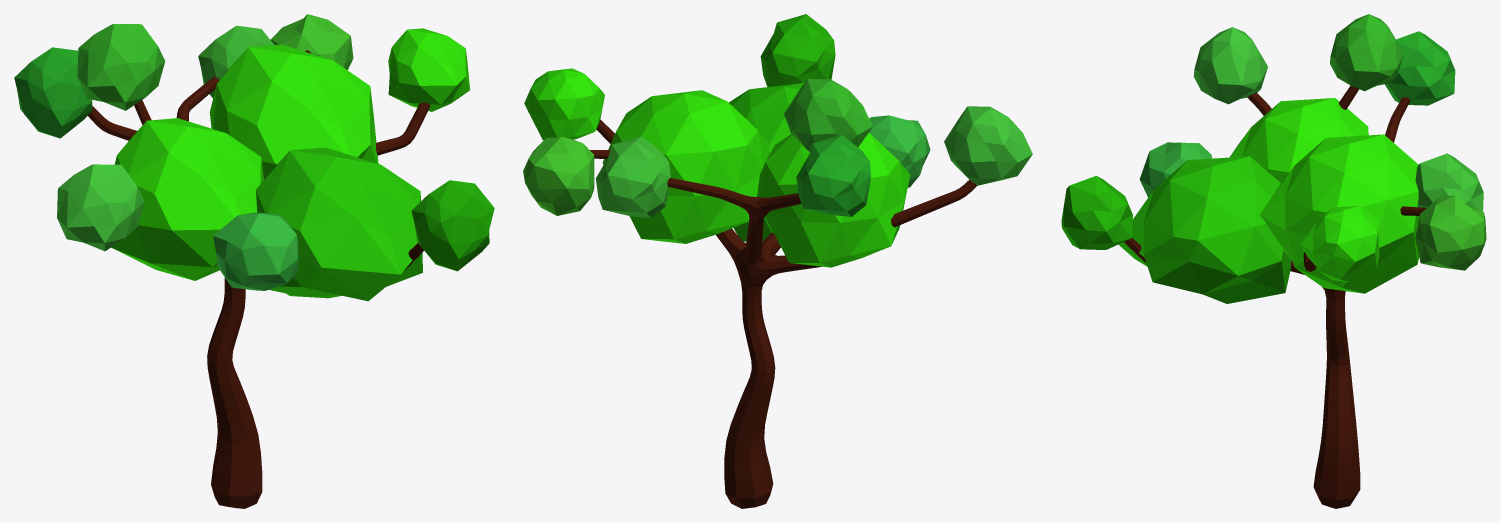
Rendered from tree2.fbx.
3 views of the same model, side by side, from view 1: azimuth 30°, elevation 25°; view 2: azimuth 150°, elevation 25°; view 3: azimuth 270°, elevation 25° (orthographic). The views are drawn at different scales.
Parts seen in each view (by area): view 1: Икосфера.011, Икосфера.008, Икосфера.009, Плоскость, Икосфера.002, Икосфера.006, Икосфера.001, Икосфера.003, Икосфера, Икосфера.007, Икосфера.004, Икосфера.005; view 2: Икосфера.009, Плоскость, Икосфера.008, Икосфера.002, Икосфера.007, Икосфера.005, Икосфера.004, Икосфера, Икосфера.006, Икосфера.003, Икосфера.011, Икосфера.001; view 3: Икосфера.011, Икосфера.009, Плоскость, Икосфера.008, Икосфера, Икосфера.004, Икосфера.003, Икосфера.006, Икосфера.002, Икосфера.007, Икосфера.005, Икосфера.001.
Part boxes in pixels (x1=…): Икосфера.011: x1=256, y1=147, x2=422, y2=301; Икосфера.008: x1=111, y1=118, x2=263, y2=280; Икосфера.009: x1=209, y1=44, x2=378, y2=179; Плоскость: x1=88, y1=50, x2=430, y2=508; Икосфера.002: x1=57, y1=164, x2=144, y2=251; Икосфера.006: x1=77, y1=24, x2=165, y2=110; Икосфера.001: x1=213, y1=212, x2=298, y2=290; Икосфера.003: x1=411, y1=180, x2=494, y2=271; Икосфера: x1=388, y1=28, x2=470, y2=111; Икосфера.007: x1=14, y1=47, x2=92, y2=138; Икосфера.004: x1=270, y1=14, x2=353, y2=70; Икосфера.005: x1=198, y1=25, x2=273, y2=98; Икосфера.009: x1=602, y1=90, x2=769, y2=243; Плоскость: x1=590, y1=119, x2=976, y2=508; Икосфера.008: x1=757, y1=133, x2=910, y2=267; Икосфера.002: x1=944, y1=106, x2=1032, y2=185; Икосфера.007: x1=796, y1=135, x2=870, y2=216; Икосфера.005: x1=595, y1=136, x2=670, y2=218; Икосфера.004: x1=523, y1=136, x2=594, y2=215; Икосфера: x1=524, y1=68, x2=604, y2=140; Икосфера.006: x1=784, y1=79, x2=872, y2=151; Икосфера.003: x1=760, y1=14, x2=835, y2=86; Икосфера.011: x1=729, y1=83, x2=803, y2=241; Икосфера.001: x1=868, y1=115, x2=930, y2=187; Икосфера.011: x1=1118, y1=156, x2=1291, y2=303; Икосфера.009: x1=1260, y1=134, x2=1419, y2=293; Плоскость: x1=1124, y1=85, x2=1426, y2=508; Икосфера.008: x1=1229, y1=98, x2=1368, y2=182; Икосфера: x1=1300, y1=205, x2=1379, y2=282; Икосфера.004: x1=1415, y1=195, x2=1486, y2=270; Икосфера.003: x1=1061, y1=175, x2=1132, y2=249; Икосфера.006: x1=1330, y1=14, x2=1403, y2=91; Икосфера.002: x1=1193, y1=27, x2=1267, y2=104; Икосфера.007: x1=1385, y1=31, x2=1455, y2=105; Икосфера.005: x1=1415, y1=153, x2=1483, y2=211; Икосфера.001: x1=1139, y1=142, x2=1212, y2=197.
Size of the model in its own units: 1280 by 1294 by 1119.
